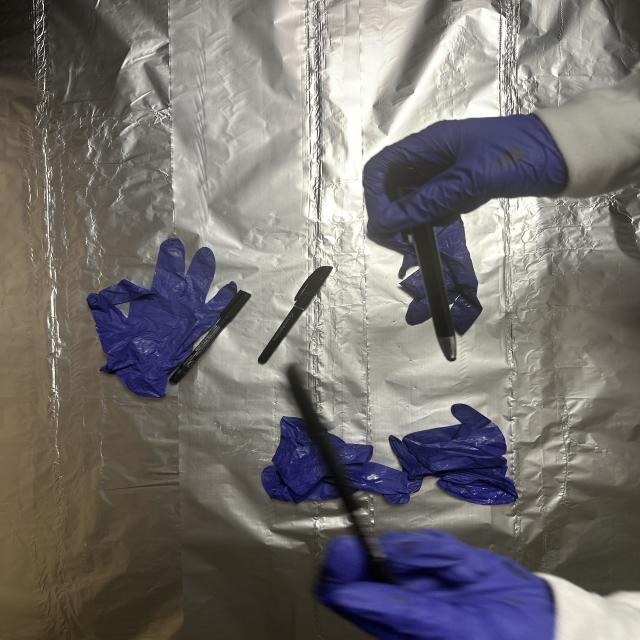gloves_contaminated: (317, 530, 555, 640), (363, 115, 568, 237)
